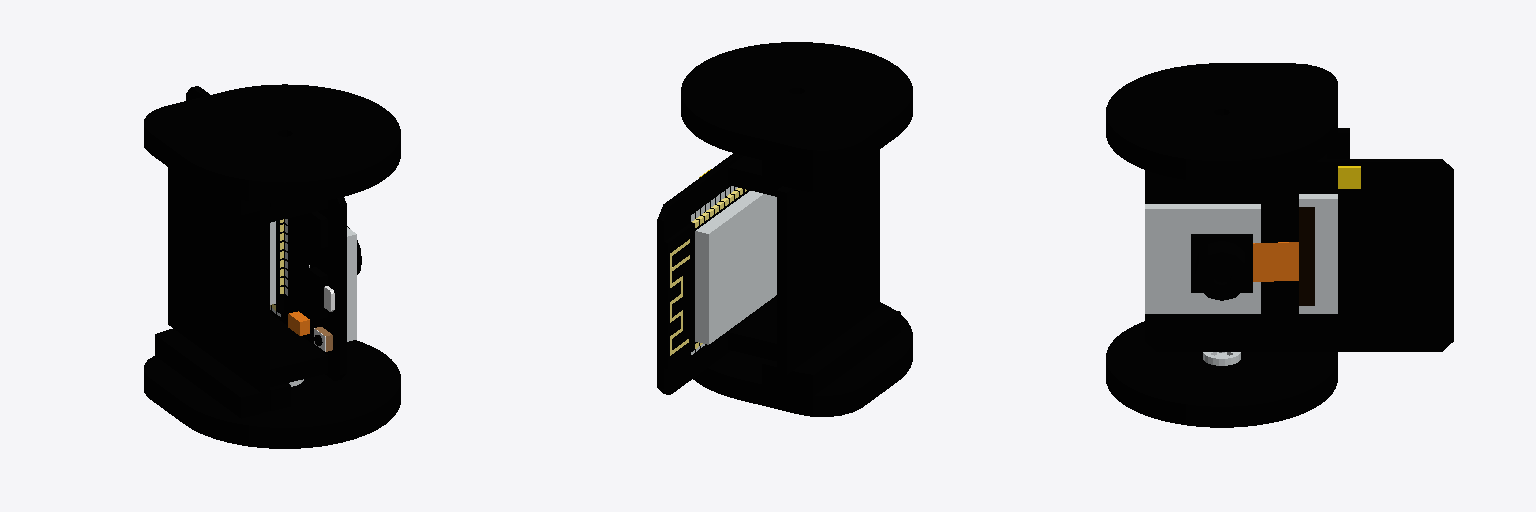
Rendered from cam.obj.
The picture shows the model from 3 angles: view 1: azimuth 30°, elevation 25°; view 2: azimuth 150°, elevation 25°; view 3: azimuth 270°, elevation 25°; orthographic projection.
Parts seen in each view (by area): view 1: cam; view 2: cam; view 3: cam.
Part boxes in pixels (x1,y1,x2,y2): cam: (144,84,400,448); cam: (657,42,912,416); cam: (1106,63,1453,427).
Size of the model in its own units: 0.03 by 0.041 by 0.045.